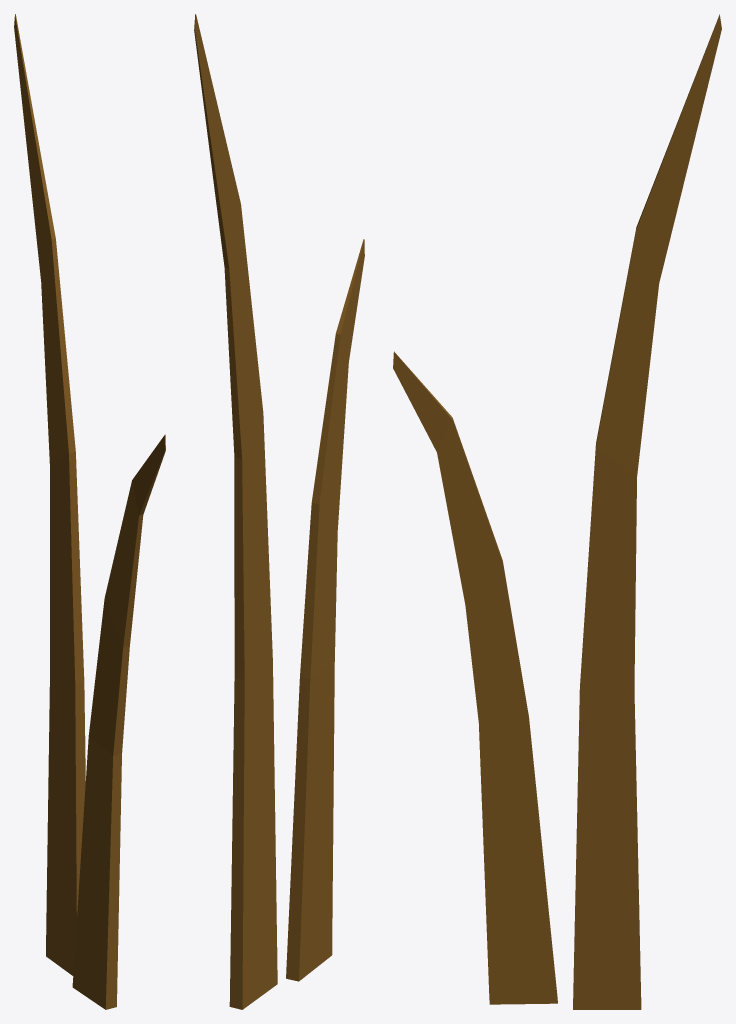
Rendered from PrairieTallGrass(4).fbx.
The picture shows the model from 3 angles, left to right: view 1: azimuth 30°, elevation 25°; view 2: azimuth 150°, elevation 25°; view 3: azimuth 270°, elevation 25°; orthographic projection. The views are drawn at different scales.
Parts seen in each view (by area): view 1: PrairieTallGrass(4); view 2: PrairieTallGrass(4); view 3: PrairieTallGrass(4).
Part boxes in pixels (<box>): PrairieTallGrass(4): <box>14,14,165,1009</box>; PrairieTallGrass(4): <box>194,14,364,1009</box>; PrairieTallGrass(4): <box>393,14,721,1009</box>.
Bounding box in the file's own units: 0.0999 × 3.76 × 1.13.
